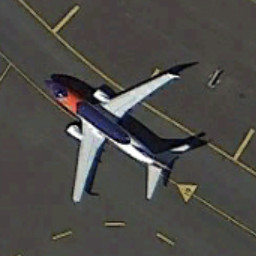Airplane: (38, 59, 194, 213)
